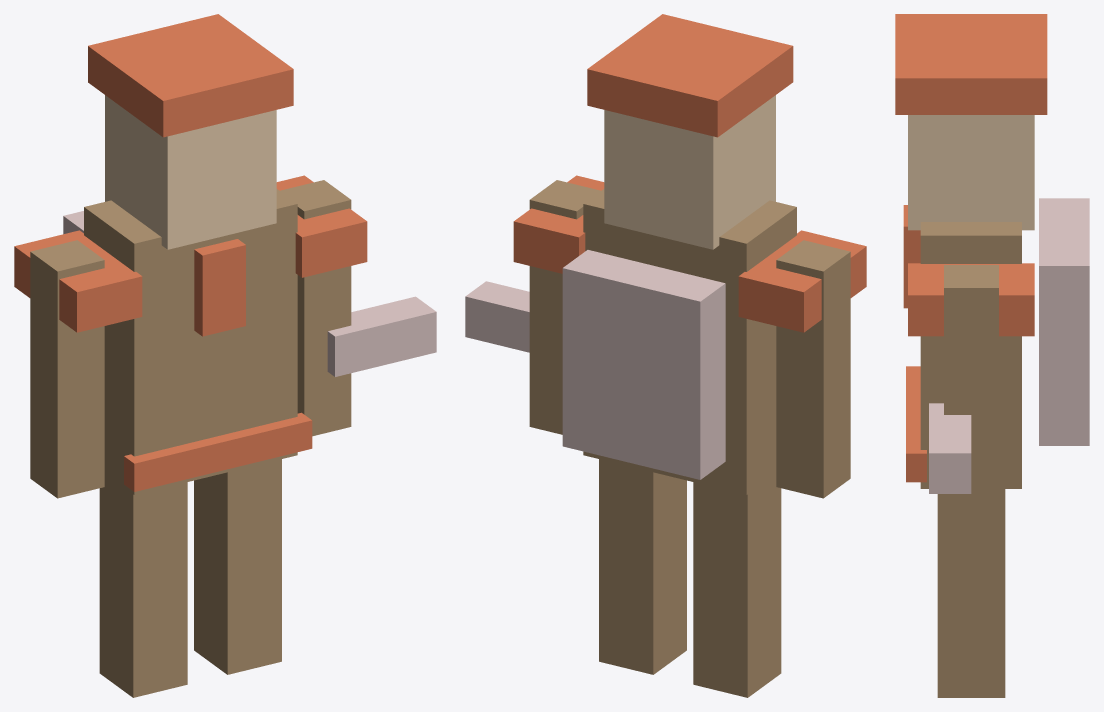
File: 09_keir_latchward_oracle_under_dormitory.glb
3 renders of one model, left to right at view 1: azimuth 30°, elevation 25°; view 2: azimuth 150°, elevation 25°; view 3: azimuth 270°, elevation 25°, orthographic.
Visible parts, largest first — view 1: Keir Latchward, Oracle under Dormitory; view 2: Keir Latchward, Oracle under Dormitory; view 3: Keir Latchward, Oracle under Dormitory.
Part boxes in pixels (x1=…): Keir Latchward, Oracle under Dormitory: x1=14, y1=14, x2=436, y2=697; Keir Latchward, Oracle under Dormitory: x1=465, y1=14, x2=866, y2=697; Keir Latchward, Oracle under Dormitory: x1=895, y1=14, x2=1089, y2=697.
Bounding box in the file's own units: 1.05 × 1.64 × 0.4694.
